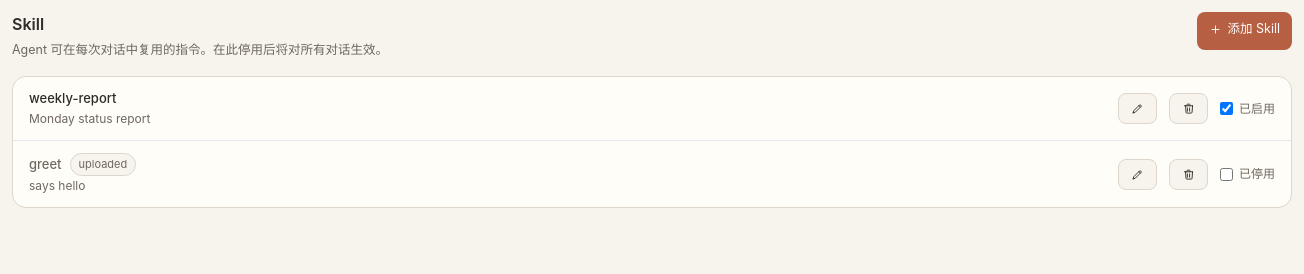
Test: SkillsTab › the enabled switch PATCHes {enabled} and teaches the off rule + physics footnote
Expected: the text "weekly-report" is shown, left=29, top=89, right=116, bottom=109
Click the switch named "weekly-report 已启用".
click(1226, 109)  # box left=1220, top=102, right=1233, bottom=115
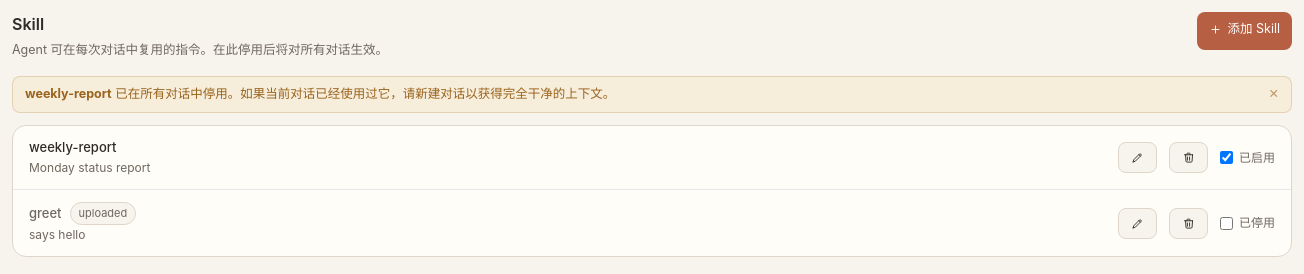
Result: the message shows "weekly-report" at left=25, top=86, right=112, bottom=101
Result: the message shows "所有对话中停用" at left=115, top=86, right=615, bottom=101
Result: the message shows "完全干净的上下文" at left=115, top=86, right=615, bottom=101
